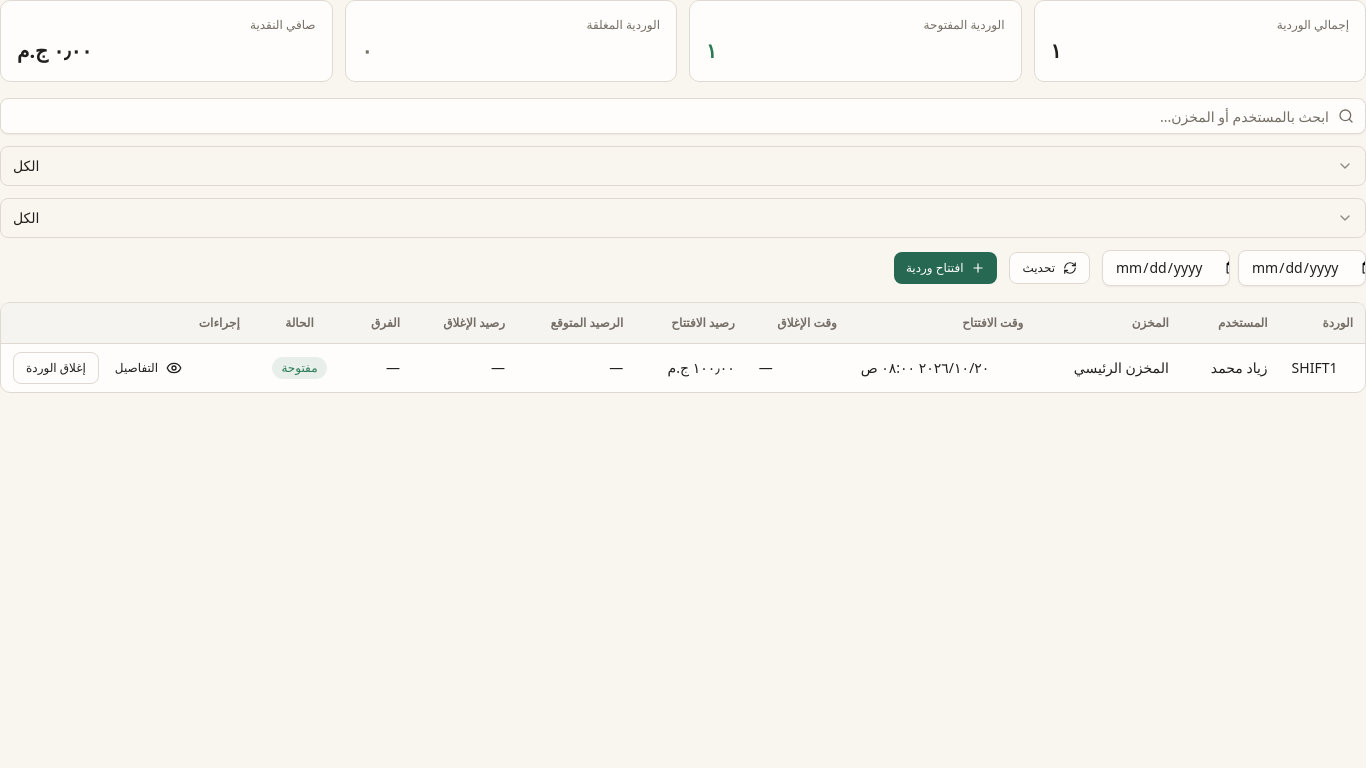
Test: shift management page › shows the reconciliation breakdown and movement history for a shift
Step 1. Click the button "التفاصيل" → (148, 368), box [103, 352, 194, 384]
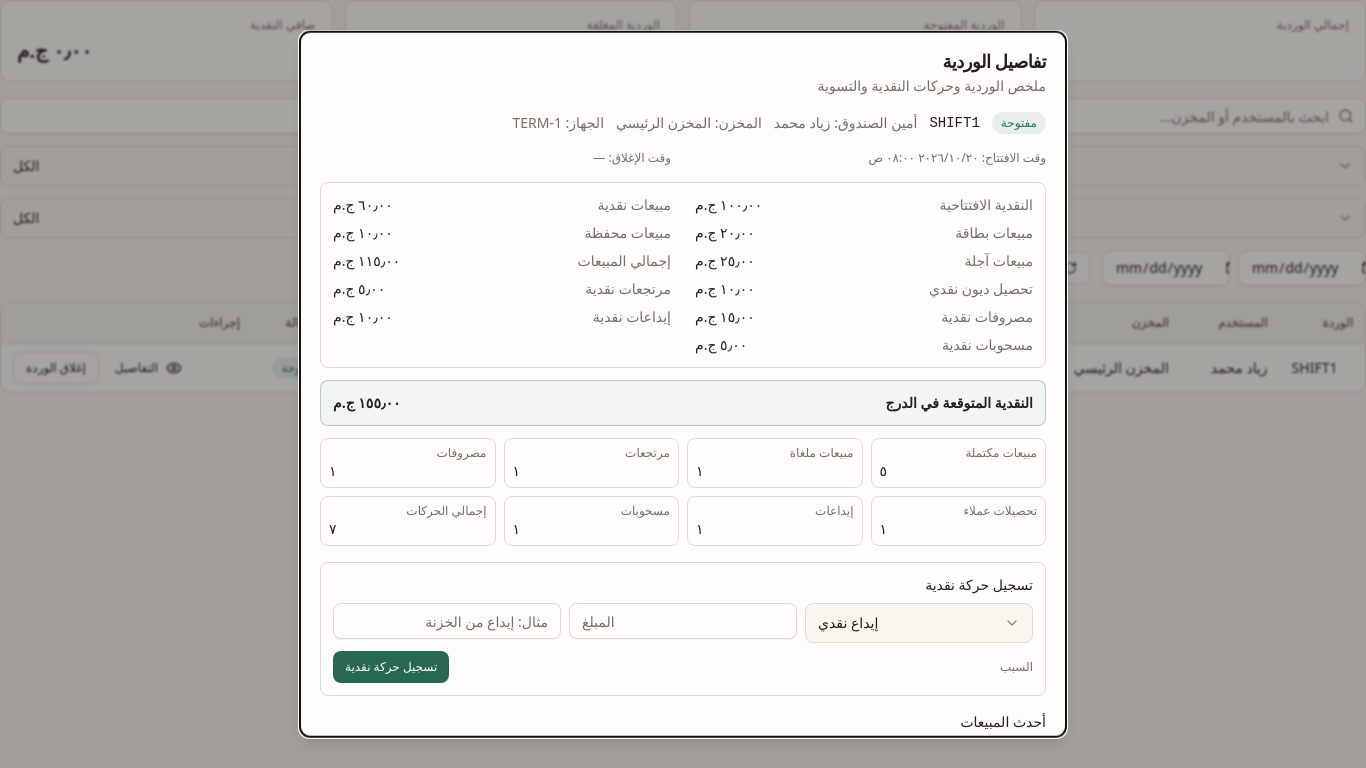
Now the text "مبيعات نقدية" is shown, box [598, 195, 671, 215]
Now the dialog shows "TERM-1", box [512, 113, 562, 132]
